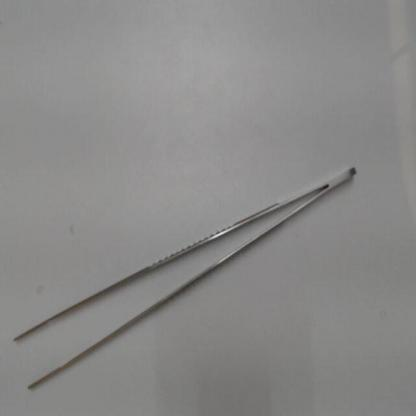DeBakey Dissector: (13, 153, 363, 408)
